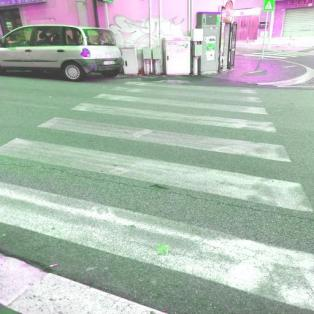Paso de Cebra: (0, 115, 314, 221)
